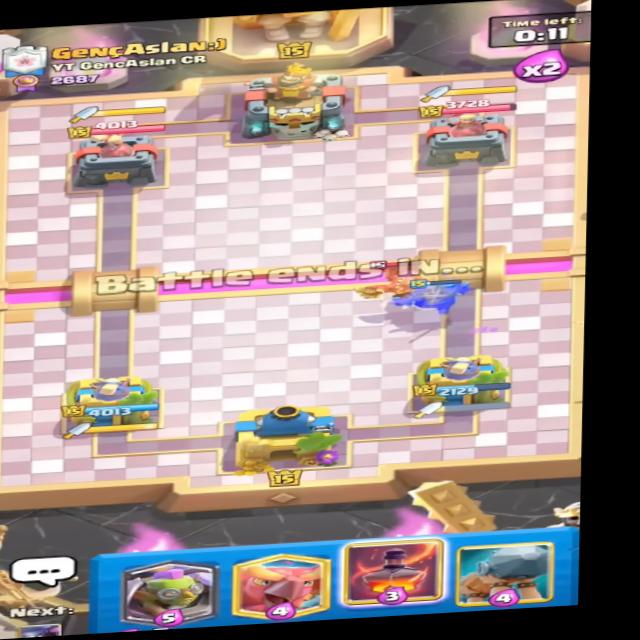Pheonix: (341, 255, 459, 313)
